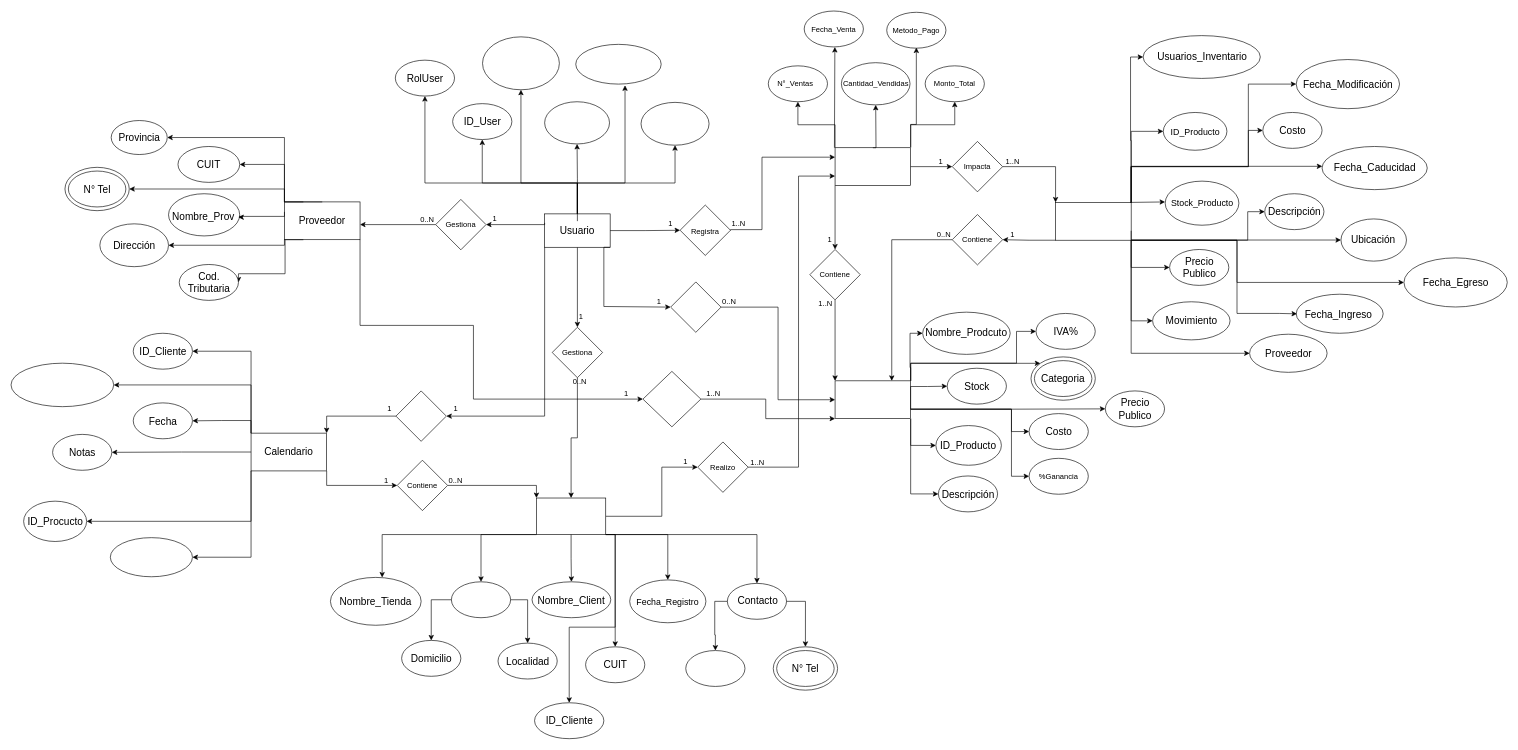
The diagram is 1518 pixels wide and 750 high, and some of its shapes have lost their labels. Here are the shapes that lost their labels. From the top down, the centre of each, then its label:
At point (520, 63): "Hora- Inicio-de-sesión".
At point (618, 64): "Username_User".
At point (577, 122): "Name_User".
At point (674, 123): "Psw_User".
At point (872, 166): "Ventas".
At point (1093, 221): "Inventario".
At point (695, 306): "Posee".
At point (62, 385): "Dia_de_la_semana".
At point (671, 399): "Proporciona".
At point (872, 399): "Producto".
At point (420, 415): "Visualiza".
At point (571, 516): "Cliente".
At point (151, 557): "ID_Calendario".
At point (481, 599): "Ubicacion".
At point (715, 668): "Email".
